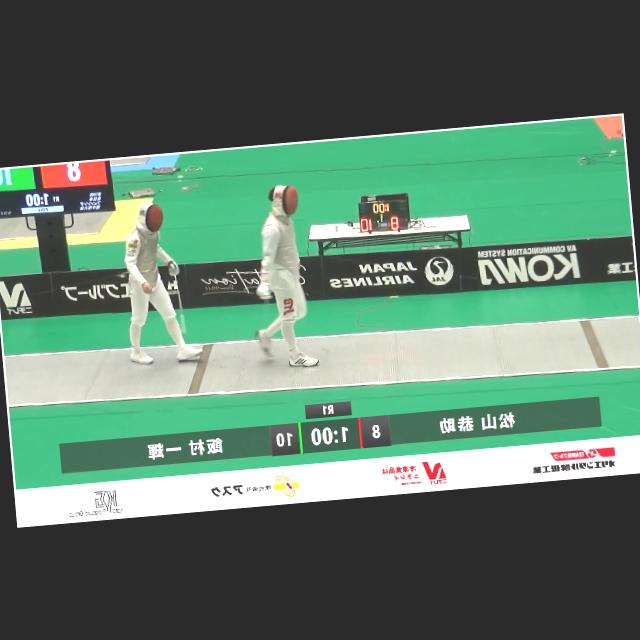blade: (166, 261, 190, 340)
